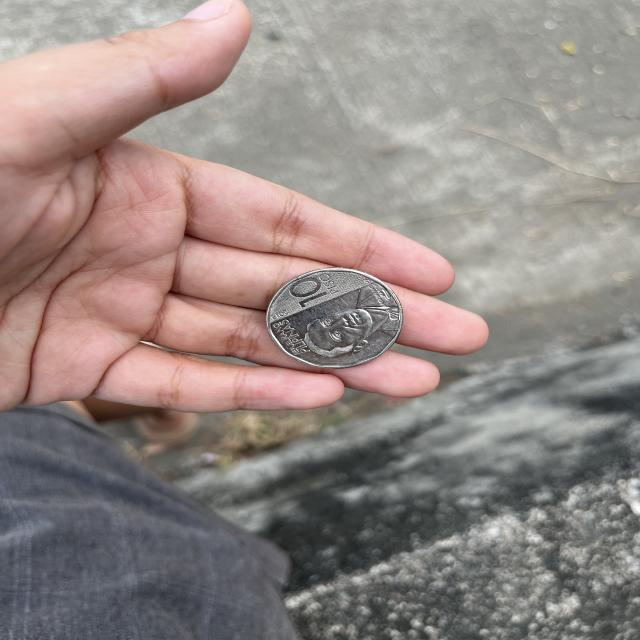10_New_Front: (286, 268, 338, 313)
